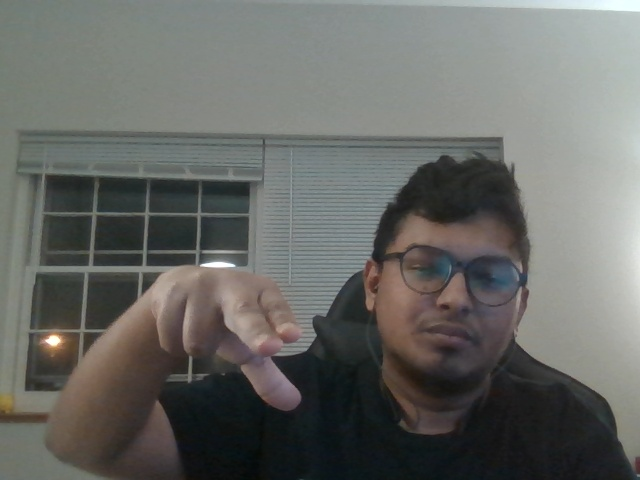no: (133, 254, 347, 427)
